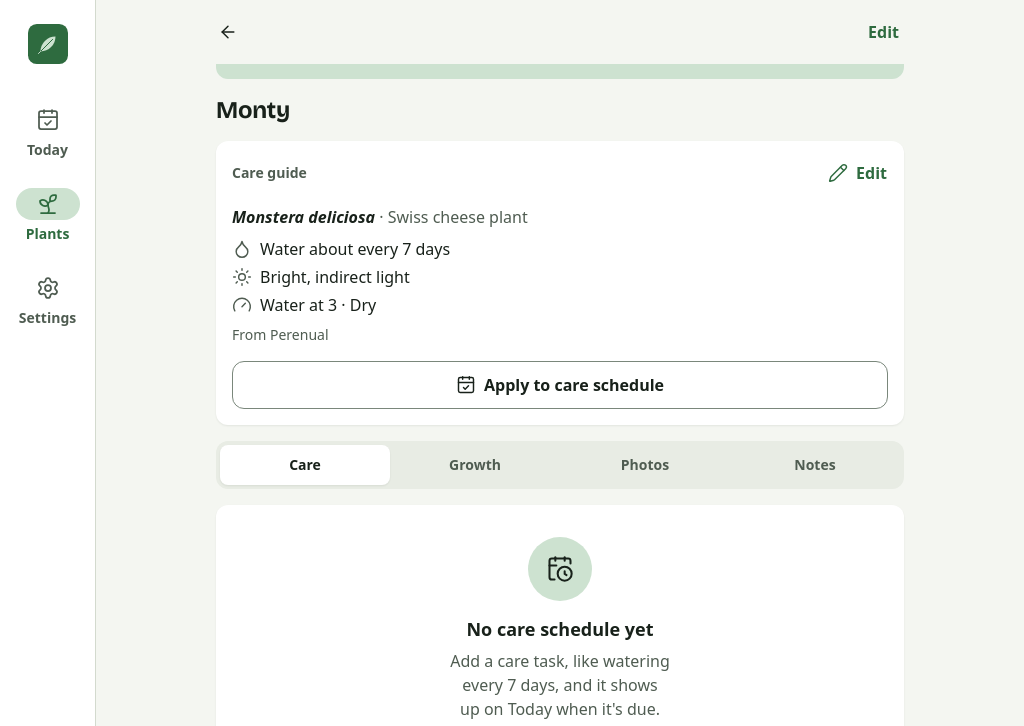
it: Care guide › shows the server's reason when there's nothing to apply
(page scrolled)
Step 1. Click the button "Apply to care schedule" → (560, 385), box [232, 361, 888, 409]
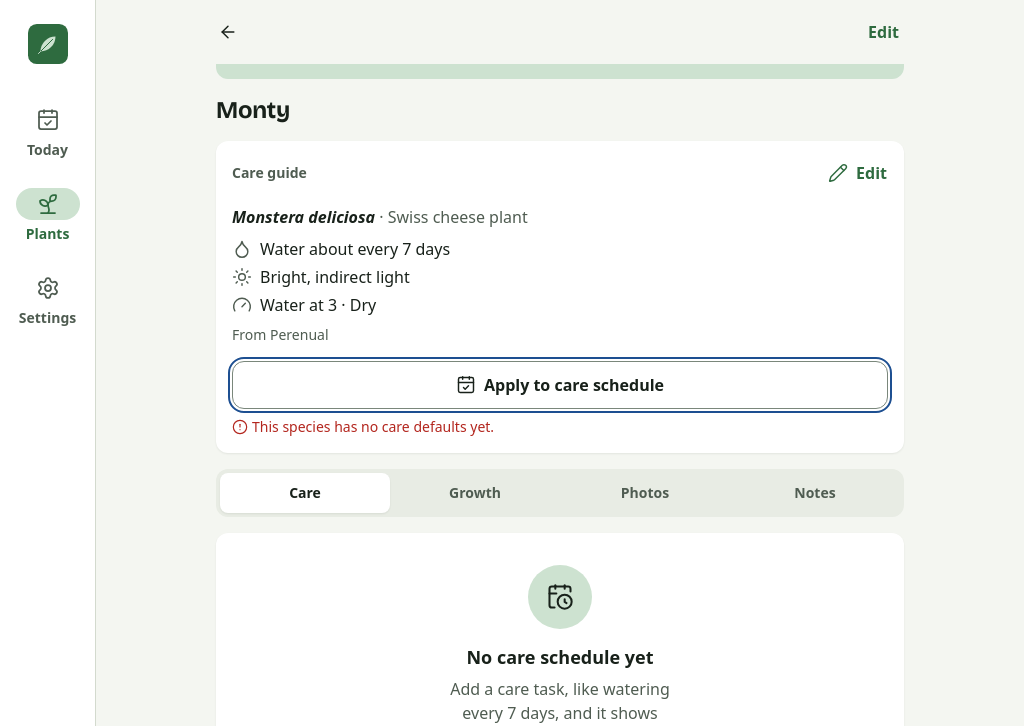
Result: the message reads "This species has no care defaults yet." at [252, 417, 494, 436]
